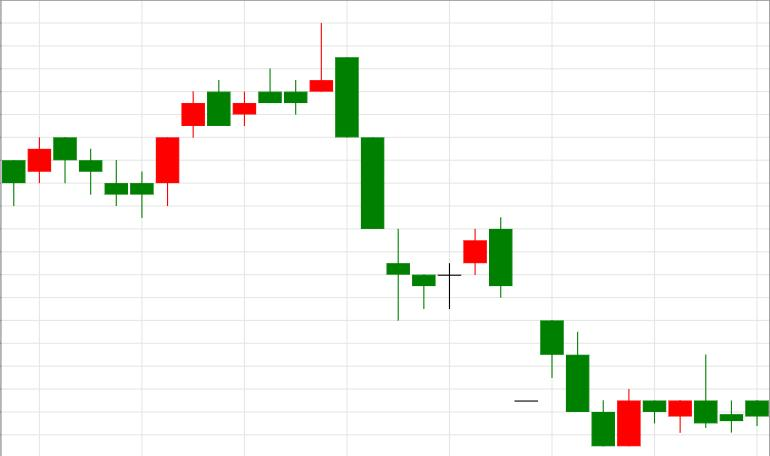bullish_engulfing_rise: (489, 217, 641, 446)
